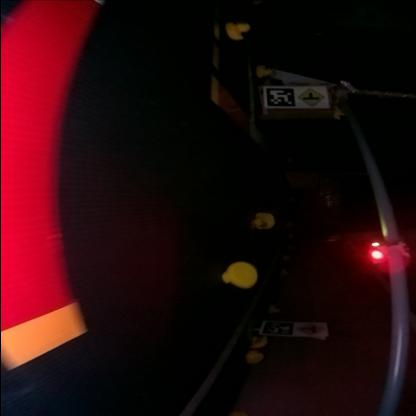Duckie: (223, 264, 257, 288), (224, 24, 249, 42), (254, 214, 274, 230), (255, 66, 274, 78), (246, 352, 262, 364), (249, 338, 268, 348)
Intersection sign: (300, 88, 326, 108), (297, 323, 324, 337)
QR code: (266, 88, 296, 107), (265, 323, 292, 337)
Traffic light: (368, 242, 408, 264)
